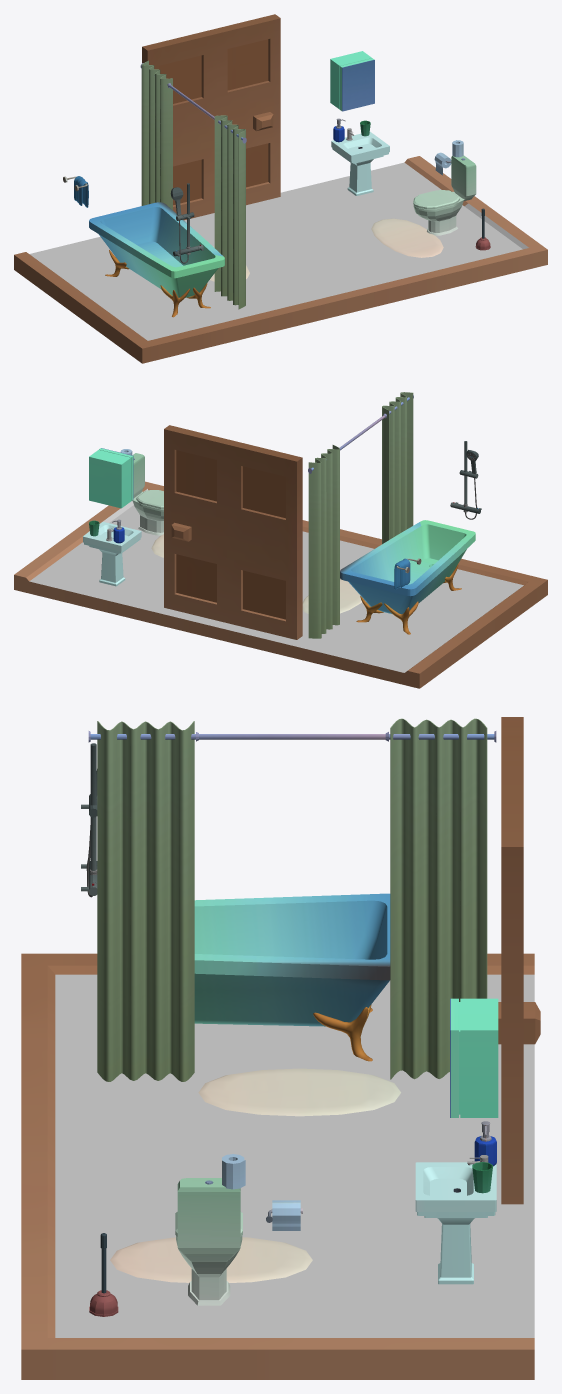
File: BAÑO.fbx
3 renders of one model, top to bottom at view 1: azimuth 30°, elevation 25°; view 2: azimuth 150°, elevation 25°; view 3: azimuth 270°, elevation 25°, orthographic. The views are drawn at different scales.
Visible parts, largest first — view 1: suelo4, puerta18, cortina1, bañera1, bater_con_rollos1, cajon1, pica1, fombra_4, toalla1; view 2: suelo4, puerta18, cortina1, bañera1, cajon1, pica1, bater_con_rollos1, fombra_5, toalla1; view 3: suelo4, cortina1, bañera1, puerta18, bater_con_rollos1, fombra_5, pica1, cajon1, fombra_4, atributo_bañp1.
Part boxes in pixels (x1,y1,x2,y2): suelo4: (14, 156, 547, 363); puerta18: (142, 14, 280, 220); cortina1: (140, 60, 246, 309); bañera1: (89, 183, 224, 317); bater_con_rollos1: (413, 140, 476, 235); cajon1: (330, 51, 374, 111); pica1: (331, 118, 389, 195); fombra_4: (371, 218, 443, 257); toalla1: (63, 176, 88, 207); suelo4: (14, 481, 547, 688); puerta18: (164, 425, 302, 639); cortina1: (308, 392, 413, 638); bañera1: (340, 441, 481, 634); cajon1: (89, 448, 133, 508); pica1: (83, 519, 141, 586); bater_con_rollos1: (120, 449, 163, 535); fombra_5: (302, 578, 361, 613); toalla1: (394, 558, 421, 589); suelo4: (21, 953, 534, 1379); cortina1: (88, 718, 496, 1081); bañera1: (81, 743, 390, 1061); puerta18: (498, 717, 540, 1204); bater_con_rollos1: (175, 1154, 302, 1305); fombra_5: (198, 1068, 400, 1116); pica1: (415, 1121, 496, 1284); cajon1: (450, 998, 498, 1117); fombra_4: (110, 1237, 312, 1282); atributo_bañp1: (89, 1233, 118, 1316).
Size of the model in its own units: 791 by 363 by 439.
